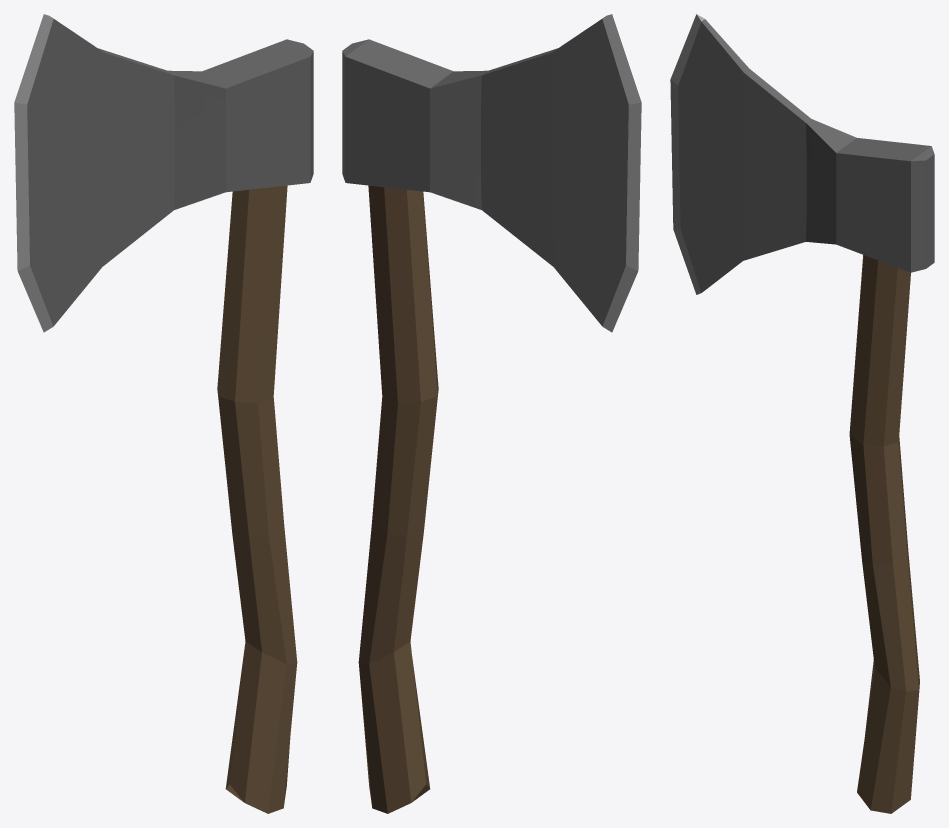
File: Axe Small.glb
The picture shows the model from 3 angles, left to right: view 1: azimuth 30°, elevation 25°; view 2: azimuth 150°, elevation 25°; view 3: azimuth 330°, elevation 25°; orthographic projection. The views are drawn at different scales.
Parts seen in each view (by area): view 1: Axe_Small; view 2: Axe_Small; view 3: Axe_Small.
Part boxes in pixels (x1,y1,x2,y2): Axe_Small: [14, 14, 313, 813]; Axe_Small: [342, 14, 641, 813]; Axe_Small: [670, 14, 934, 813].
Bounding box in the file's own units: 0.225 × 0.6159 × 0.0356.
